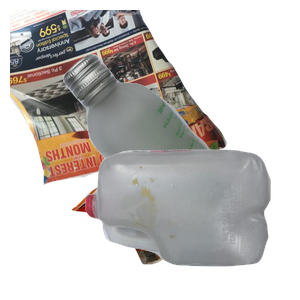glass: (60, 51, 300, 231)
paper: (10, 10, 230, 188)
plastic: (83, 147, 300, 300)
trash: (69, 153, 239, 300)
